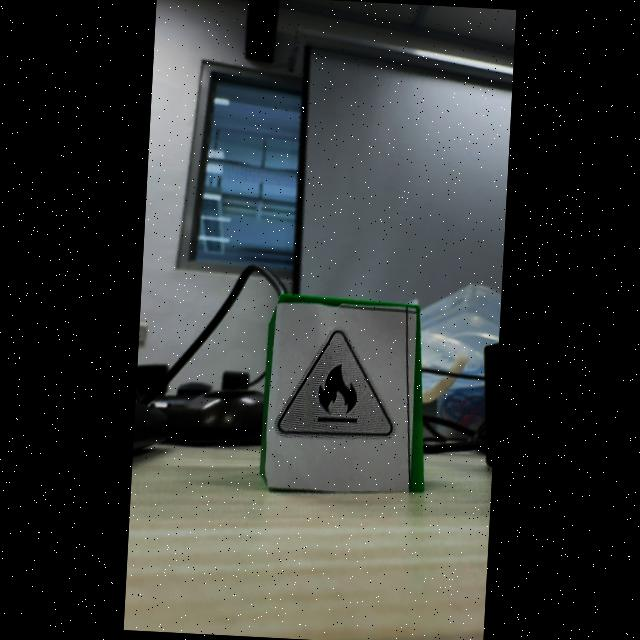Fire: (276, 331, 392, 436)
